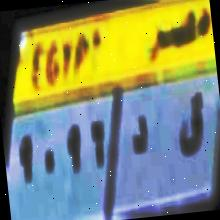0: (40, 137, 59, 189)
6: (86, 108, 112, 176)
9: (15, 127, 41, 195), (62, 114, 88, 179)
daal: (125, 102, 156, 168)
qaaf: (169, 84, 214, 170)
